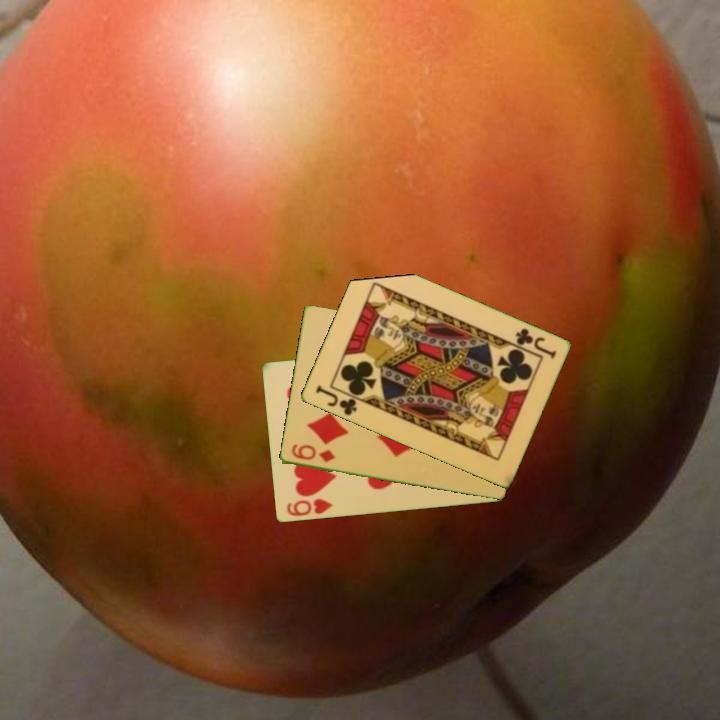6d: (288, 441, 338, 465)
6h: (283, 495, 335, 519)
Jc: (311, 382, 359, 419), (512, 325, 559, 362)
